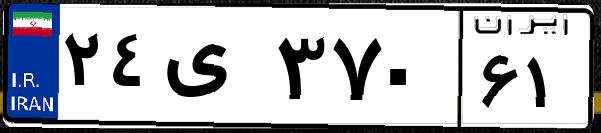0: (385, 28, 445, 110)
1: (525, 38, 570, 115)
2: (57, 26, 110, 100)
3: (270, 28, 330, 110)
4: (110, 28, 158, 98)
6: (475, 38, 525, 113)
7: (330, 28, 385, 110)
ی: (158, 20, 270, 120)
